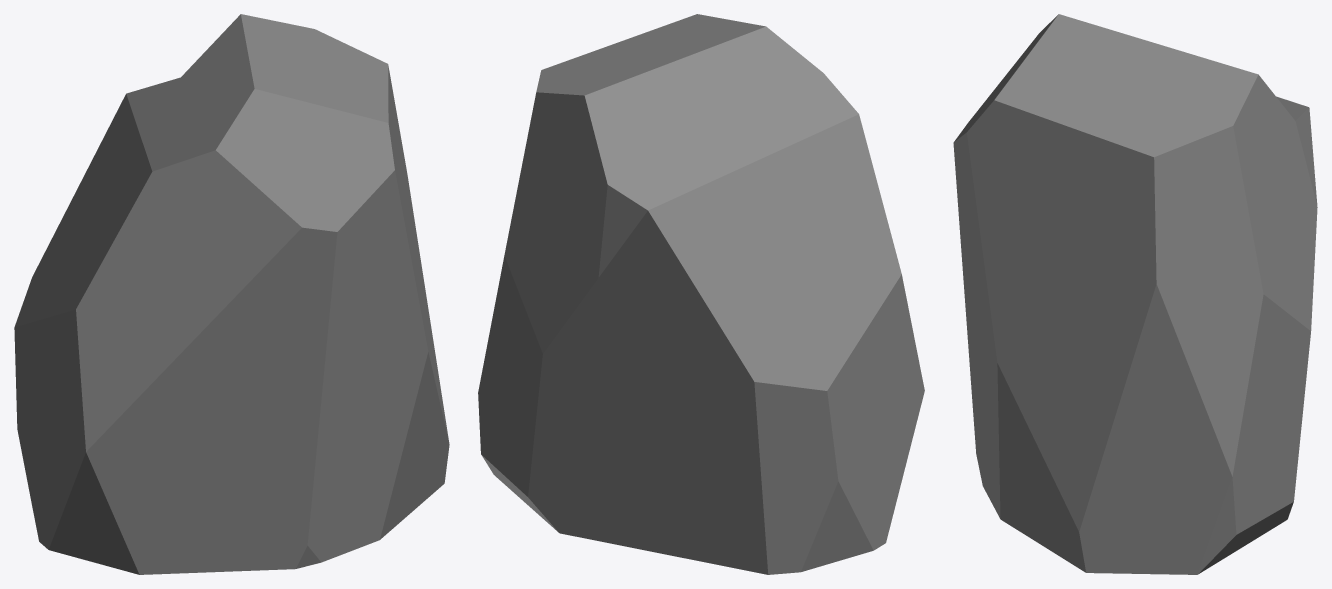
Rendered from bare_rock1.glb.
3 renders of one model, left to right at view 1: azimuth 30°, elevation 25°; view 2: azimuth 150°, elevation 25°; view 3: azimuth 270°, elevation 25°, orthographic. The views are drawn at different scales.
Parts seen in each view (by area): view 1: Stone_5; view 2: Stone_5; view 3: Stone_5.
Part boxes in pixels (bbox=[...]): Stone_5: bbox=[14, 14, 449, 574]; Stone_5: bbox=[478, 14, 924, 574]; Stone_5: bbox=[953, 14, 1317, 574].
Size of the model in its own units: 0.8372 by 0.9775 by 0.7029.
1 material, 1 textured.
